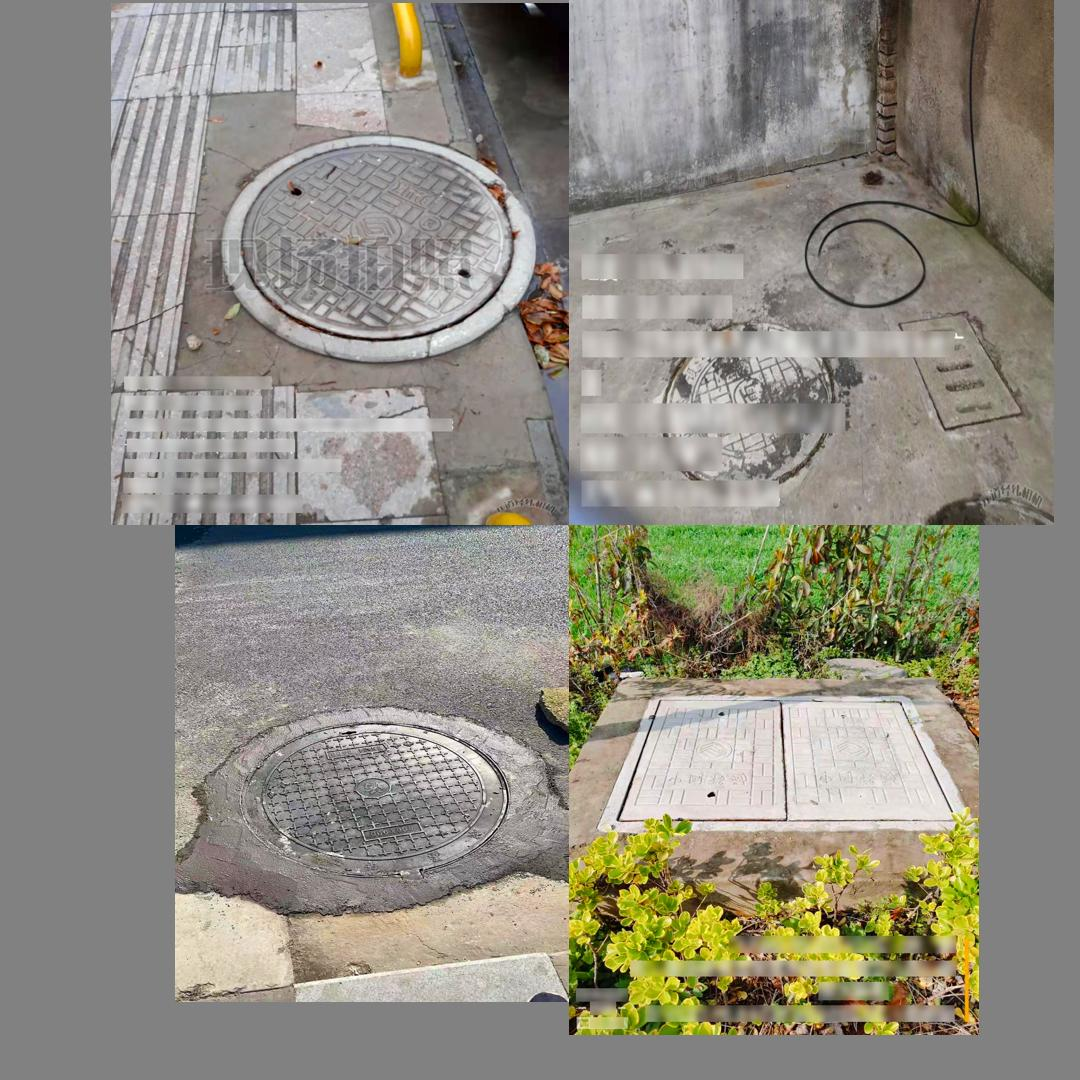good: (186, 695, 549, 913), (222, 134, 536, 362), (596, 695, 978, 831), (651, 320, 840, 498)
